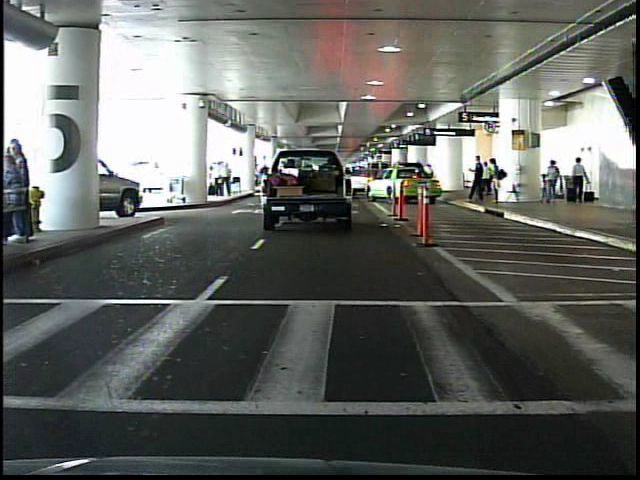person: (470, 154, 487, 206), (489, 157, 506, 206), (483, 159, 491, 198)
